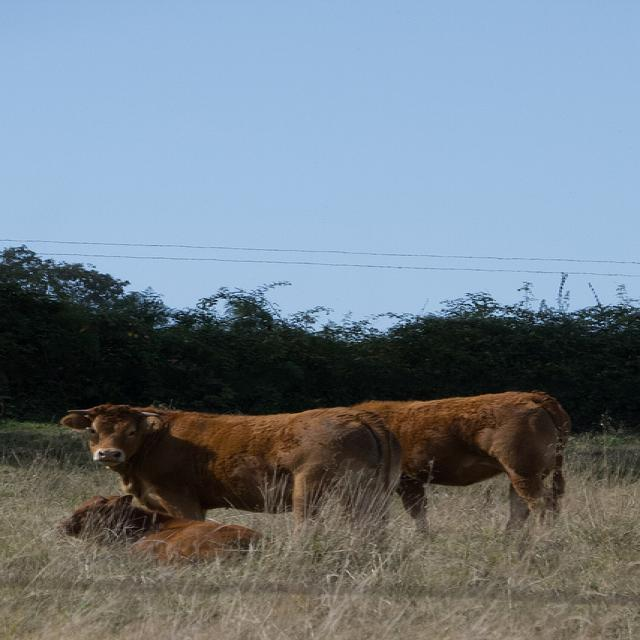cow: (60, 402, 400, 558), (352, 393, 570, 544), (52, 492, 270, 563)
